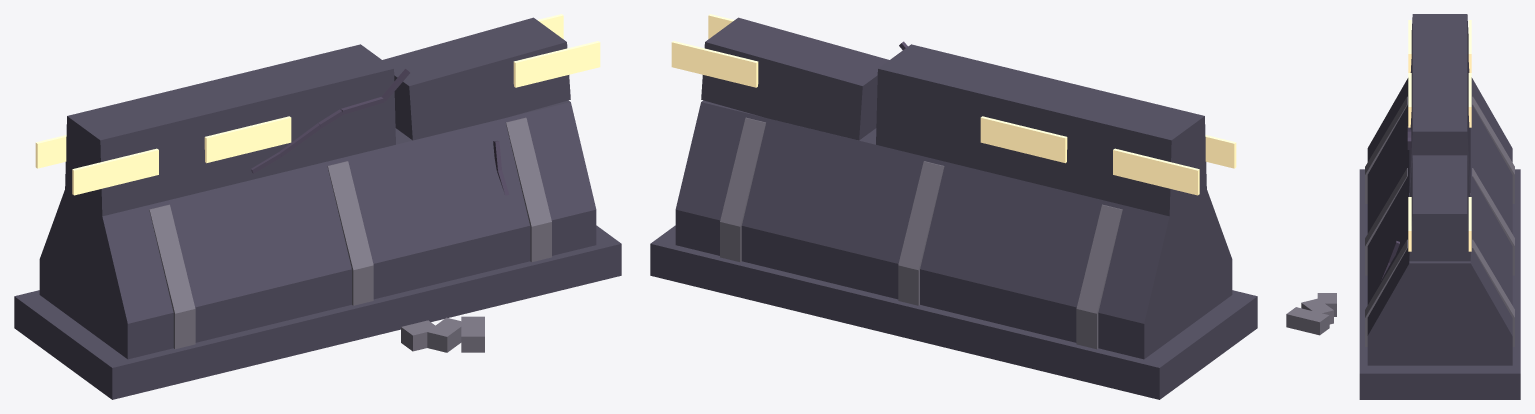
The model's file is UtilityBarricadeCracked.glb.
3 renders of one model, left to right at view 1: azimuth 30°, elevation 25°; view 2: azimuth 150°, elevation 25°; view 3: azimuth 270°, elevation 25°, orthographic. The views are drawn at different scales.
Parts seen in each view (by area): view 1: body, stem (×2), base, rib (×3), stripe (×4), chip (×3); view 2: body, stem (×2), base, rib (×3), stripe (×4); view 3: body, stem (×2), base, rib (×3), chip (×3), stripe (×2).
Boxes of the visible parts, box(x1,y1,x2,y2) form: body: box(39, 100, 596, 359); stem (×2): box(65, 17, 570, 216); base: box(14, 225, 621, 399); rib (×3): box(149, 117, 551, 349); stripe (×4): box(35, 41, 600, 195); chip (×3): box(401, 316, 484, 352); body: box(675, 100, 1232, 359); stem (×2): box(701, 17, 1206, 216); base: box(650, 225, 1257, 399); rib (×3): box(720, 117, 1122, 349); stripe (×4): box(671, 41, 1236, 195); body: box(1367, 77, 1512, 365); stem (×2): box(1409, 14, 1470, 261); base: box(1359, 169, 1520, 399); rib (×3): box(1365, 96, 1514, 346); chip (×3): box(1286, 293, 1336, 335); stripe (×2): box(1408, 197, 1471, 251).
Bounding box in the file's own units: 3.1 × 1.3 × 1.45.
